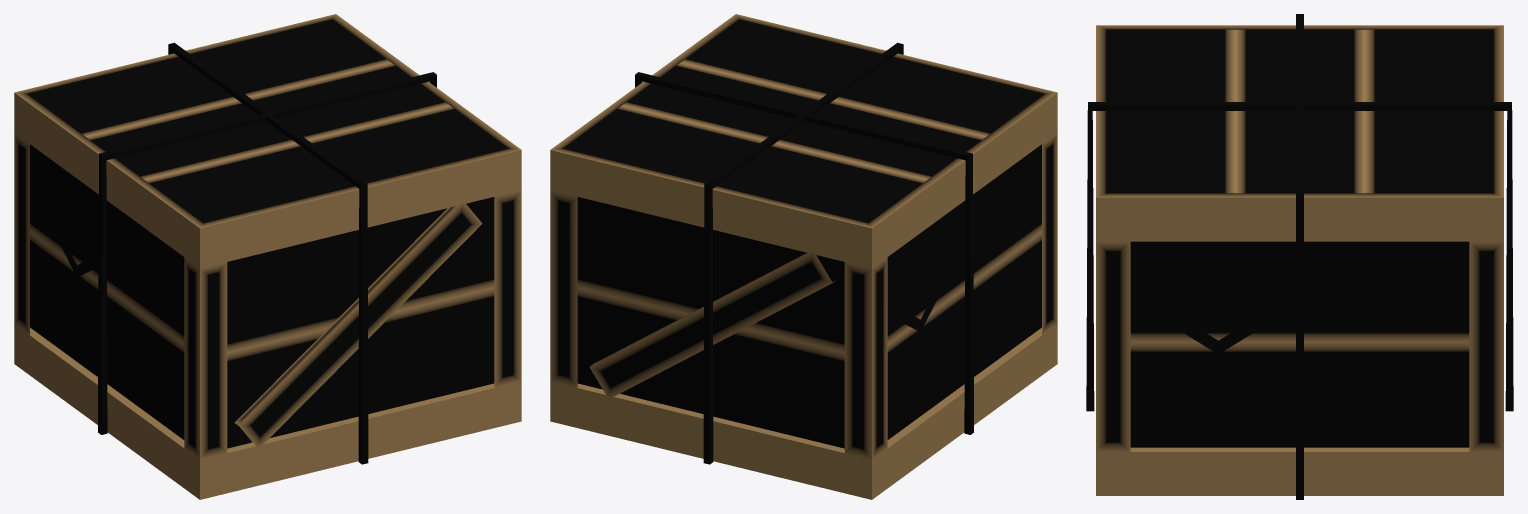
The model's file is stowed_crate_62.glb.
3 renders of one model, left to right at view 1: azimuth 30°, elevation 25°; view 2: azimuth 150°, elevation 25°; view 3: azimuth 270°, elevation 25°, orthographic. The views are drawn at different scales.
Visible parts, largest first — view 1: body, battens, lashing, stencils; view 2: body, battens, lashing, stencils; view 3: body, battens, lashing, stencils.
Boxes of the visible parts, x1=… form: body: x1=27, y1=19, x2=508, y2=448; battens: x1=14, y1=14, x2=521, y2=499; lashing: x1=98, y1=42, x2=436, y2=464; stencils: x1=52, y1=215, x2=98, y2=325; body: x1=563, y1=19, x2=1044, y2=448; battens: x1=550, y1=14, x2=1057, y2=499; lashing: x1=635, y1=42, x2=973, y2=464; stencils: x1=895, y1=269, x2=945, y2=381; body: x1=1106, y1=29, x2=1493, y2=447; battens: x1=1096, y1=25, x2=1503, y2=495; lashing: x1=1086, y1=14, x2=1513, y2=499; stencils: x1=1163, y1=285, x2=1273, y2=389.
Size of the model in its own units: 0.6153 by 0.4864 by 0.6153.
